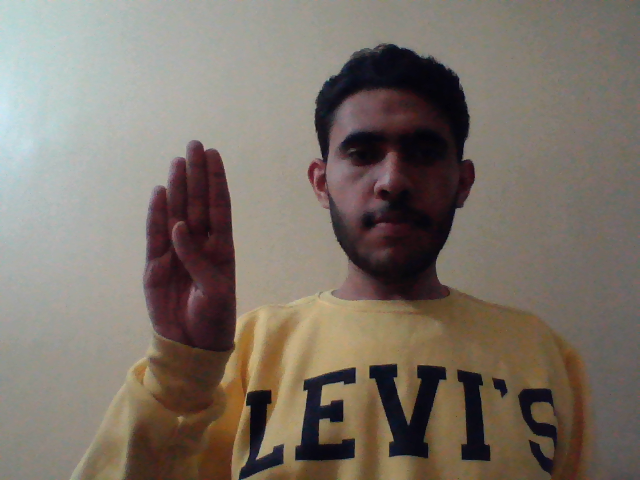B: (137, 135, 240, 356)
